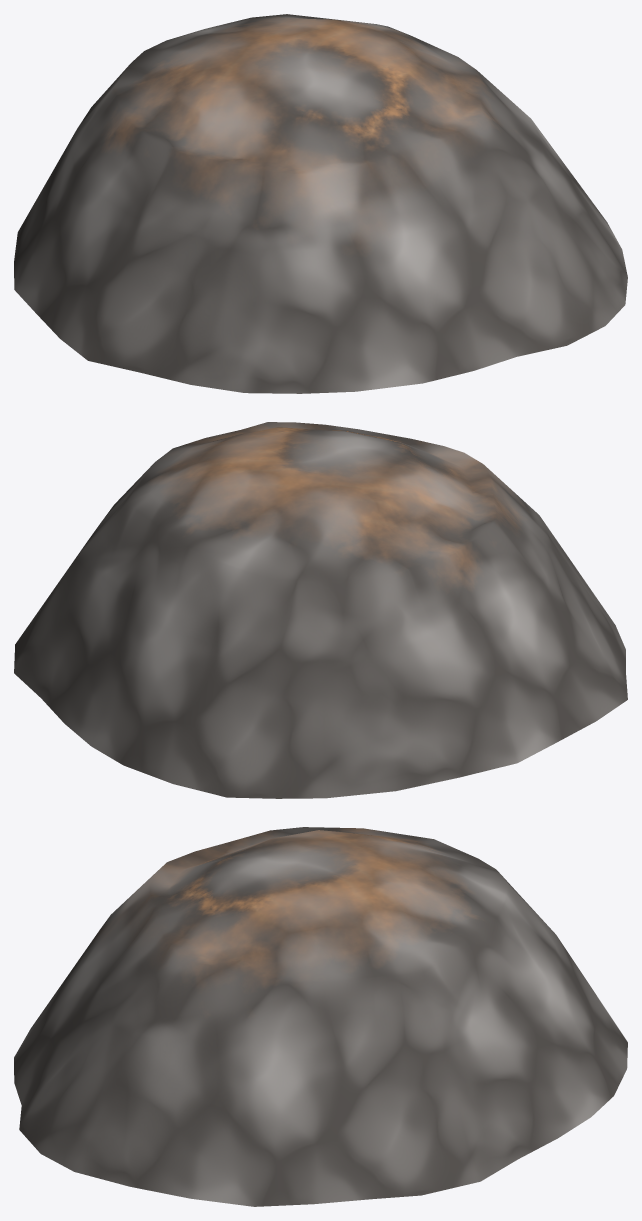
The model's file is low_poly_island_3 (1).glb.
3 renders of one model, top to bottom at view 1: azimuth 30°, elevation 25°; view 2: azimuth 150°, elevation 25°; view 3: azimuth 270°, elevation 25°, orthographic.
Parts seen in each view (by area): view 1: Island 3; view 2: Island 3; view 3: Island 3.
Part boxes in pixels (x1,y1,x2,y2): Island 3: (14, 14, 627, 393); Island 3: (14, 422, 627, 798); Island 3: (14, 827, 627, 1206).
Size of the model in its own units: 658 by 247 by 653.
1 material, 1 textured.
